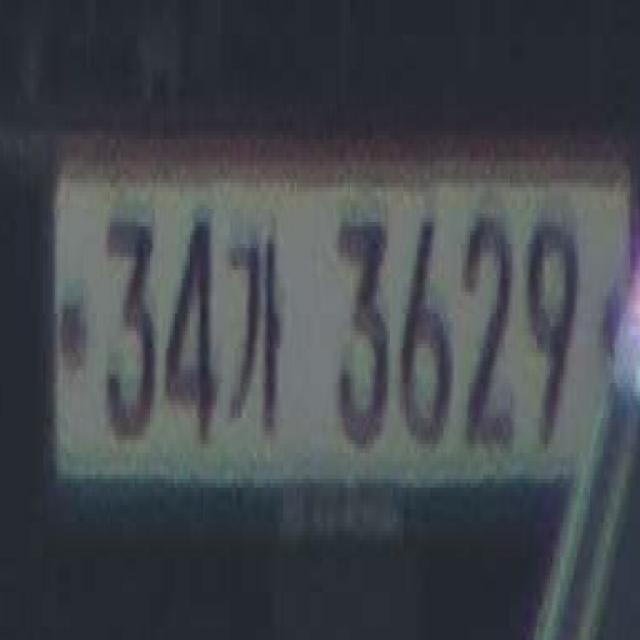2: (460, 200, 512, 440)
3: (335, 213, 393, 453), (105, 209, 158, 444)
4: (165, 213, 218, 440)
6: (395, 214, 452, 448)
9: (523, 209, 580, 448)
ga: (228, 235, 282, 440)
license_plate: (53, 152, 627, 492)
